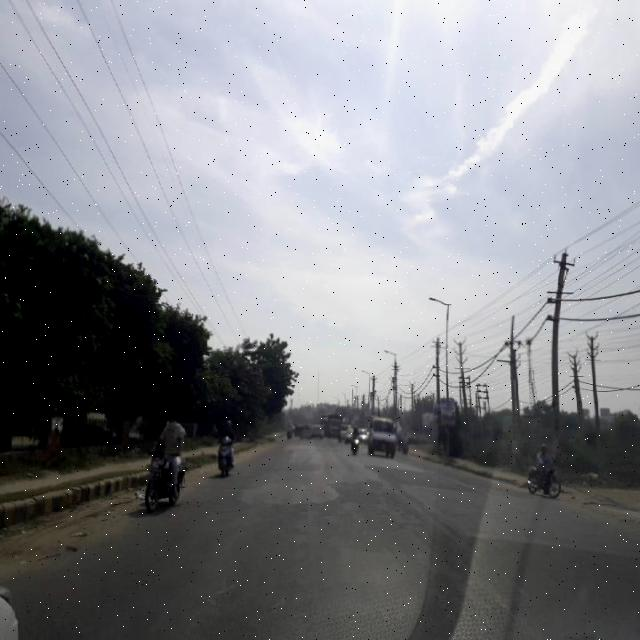D00: (201, 569, 242, 612)
